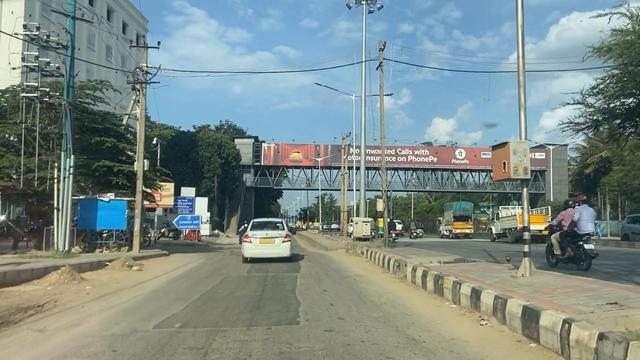LMV: (240, 214, 295, 267)
UnsurfacedRoad: (183, 284, 308, 314)
